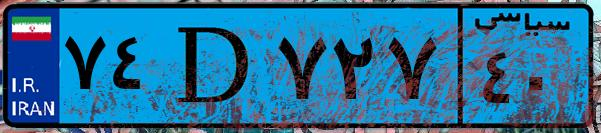0: (525, 38, 570, 115)
2: (330, 28, 385, 110)
4: (475, 38, 525, 113), (110, 28, 158, 98)
7: (270, 28, 330, 110), (385, 28, 445, 110), (57, 26, 110, 100)
D: (158, 12, 270, 120)
